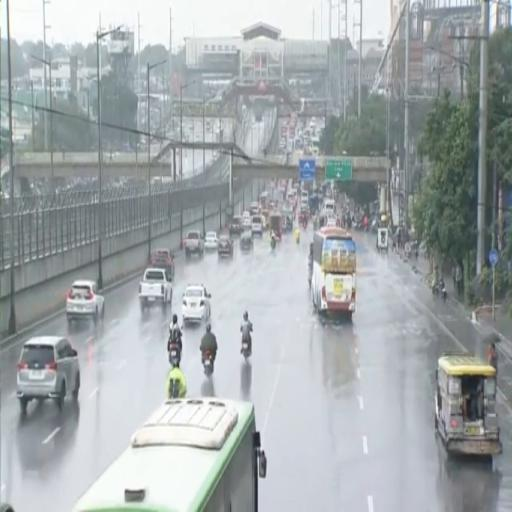bus: (74, 397, 266, 511), (312, 227, 356, 318), (259, 191, 269, 210)
car: (17, 336, 80, 413), (66, 280, 104, 326), (182, 284, 211, 324), (149, 249, 174, 277), (218, 235, 233, 257), (239, 231, 253, 252), (229, 216, 243, 235), (204, 232, 218, 250), (252, 216, 263, 235), (243, 212, 251, 229), (250, 202, 260, 215), (326, 217, 336, 227)
jeepney: (435, 354, 502, 455)
motorcycle: (241, 323, 252, 361), (203, 350, 214, 376), (169, 344, 181, 366), (242, 336, 251, 361), (438, 283, 448, 302), (170, 379, 179, 398), (308, 264, 312, 287), (271, 238, 276, 250), (303, 218, 308, 230), (295, 234, 299, 245)
truck: (139, 268, 172, 312), (183, 231, 203, 257)
